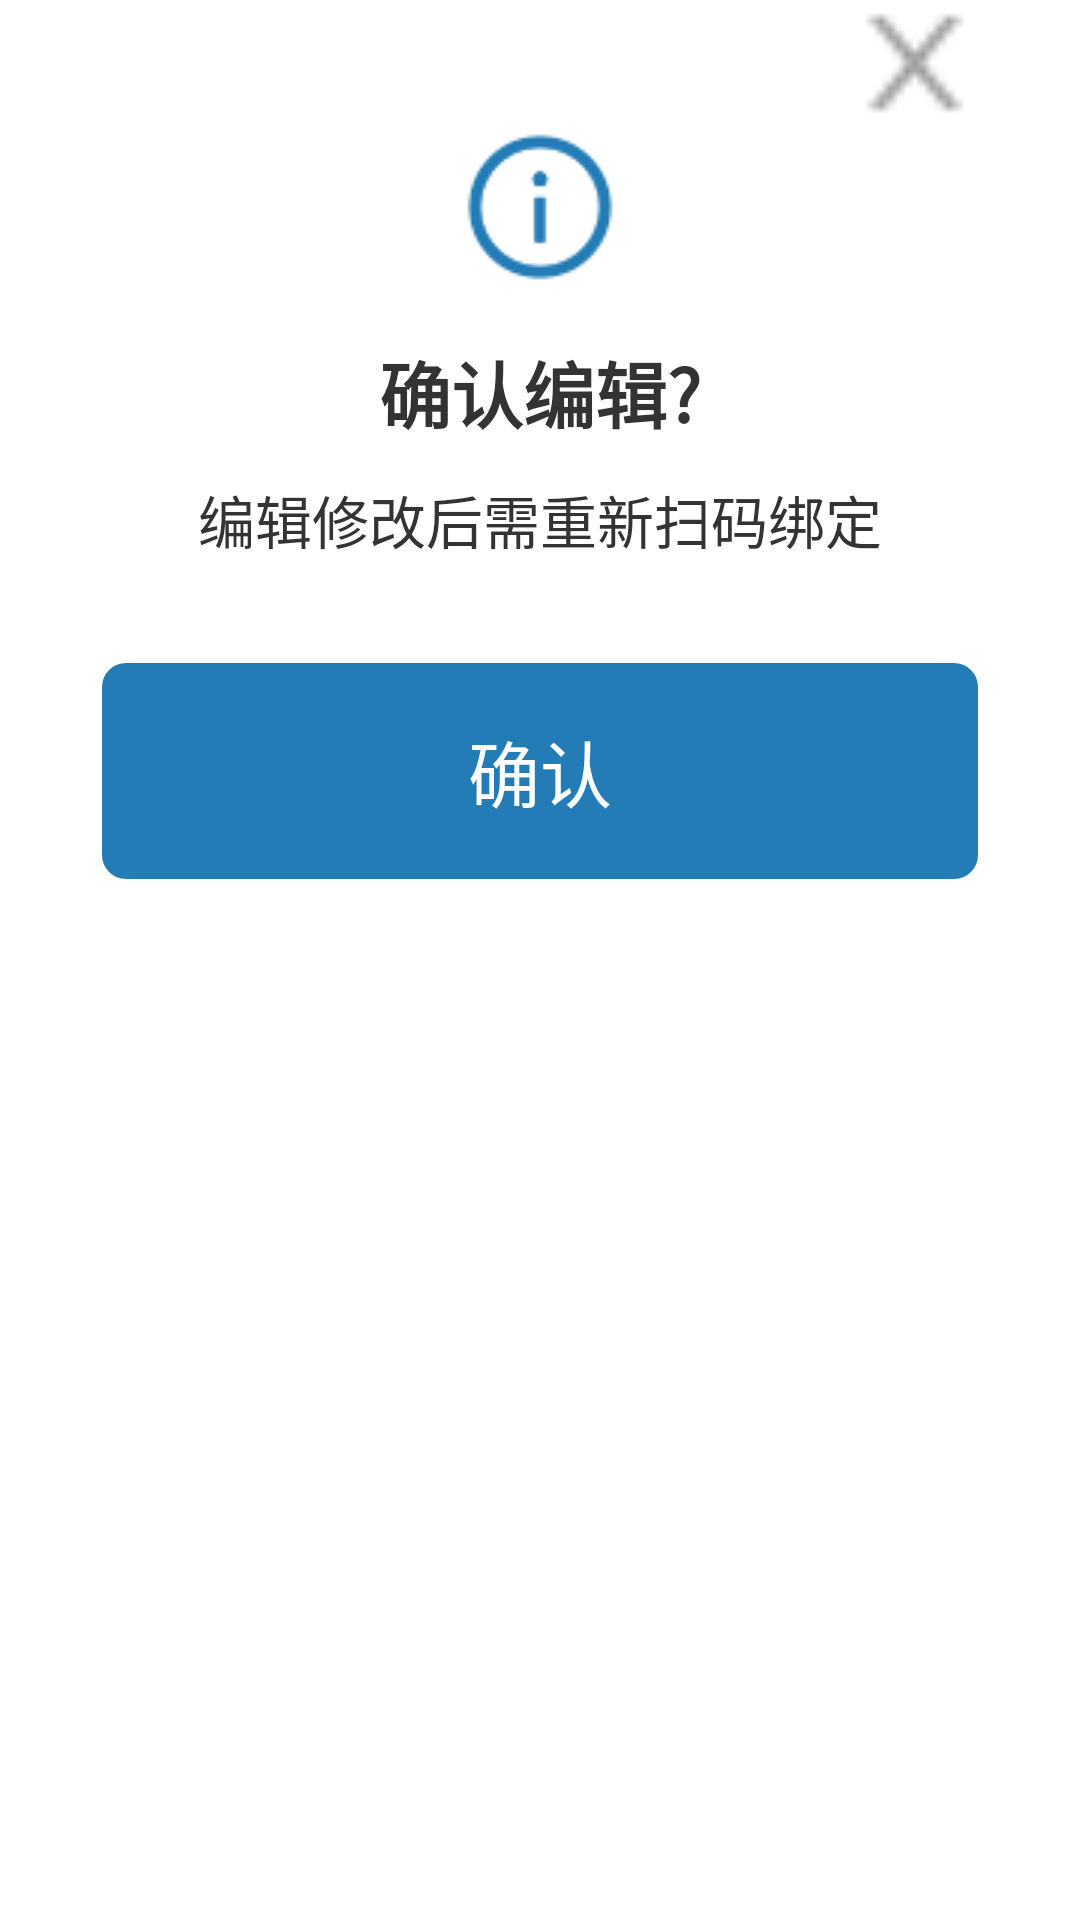

Icons on this 1080w x 1920h Android screen, each with the point to tap as point (x, y):
close: point (915, 63)
